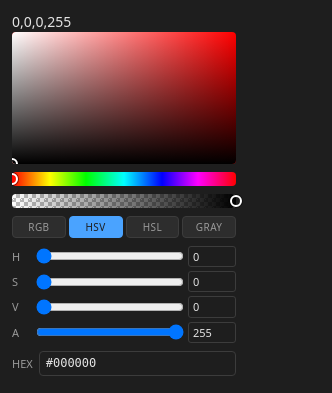
Scenario: ColorPicker › edits an RGB channel and keeps HEX in sync
Step 1. Click the tab "RGB" → (39, 227), box [12,216,66,238]
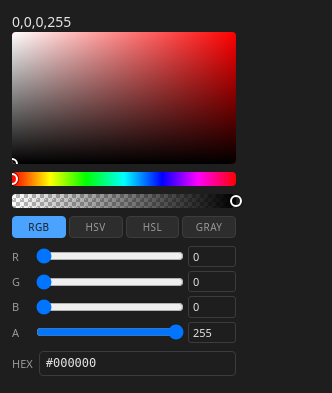
Step 2. Replace the text in the number field named "R value" with "255" → (212, 256), box [188,246,236,267]
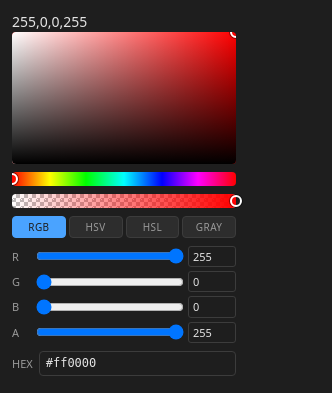
Expected: the field named "Foreground colour hex value" holds "#ff0000", [39,351,236,376]
